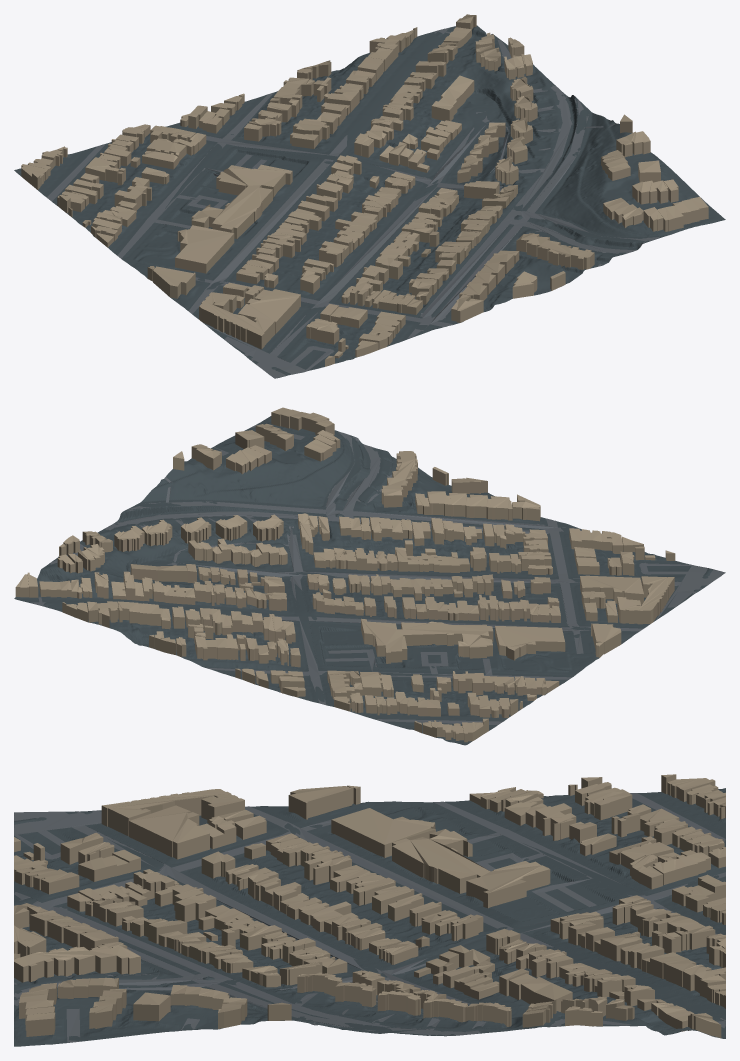
Rendered from epsg26910-1442-10876.lod0.glb.
The picture shows the model from 3 angles, top to bottom: view 1: azimuth 30°, elevation 25°; view 2: azimuth 150°, elevation 25°; view 3: azimuth 270°, elevation 25°; orthographic projection. The views are drawn at different scales.
Visible parts, largest first — view 1: epsg26910-1442-10876-lod0; view 2: epsg26910-1442-10876-lod0; view 3: epsg26910-1442-10876-lod0.
Part boxes in pixels (x1,y1,x2,y2): epsg26910-1442-10876-lod0: (14, 14, 725, 378); epsg26910-1442-10876-lod0: (14, 407, 725, 745); epsg26910-1442-10876-lod0: (14, 774, 725, 1046).
Bounding box in the file's own units: 384 × 65.48 × 384.
